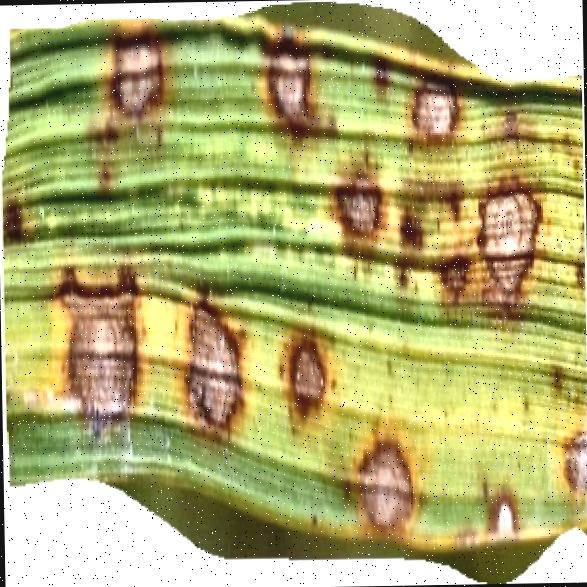Leaf_smut: (3, 13, 587, 551)
